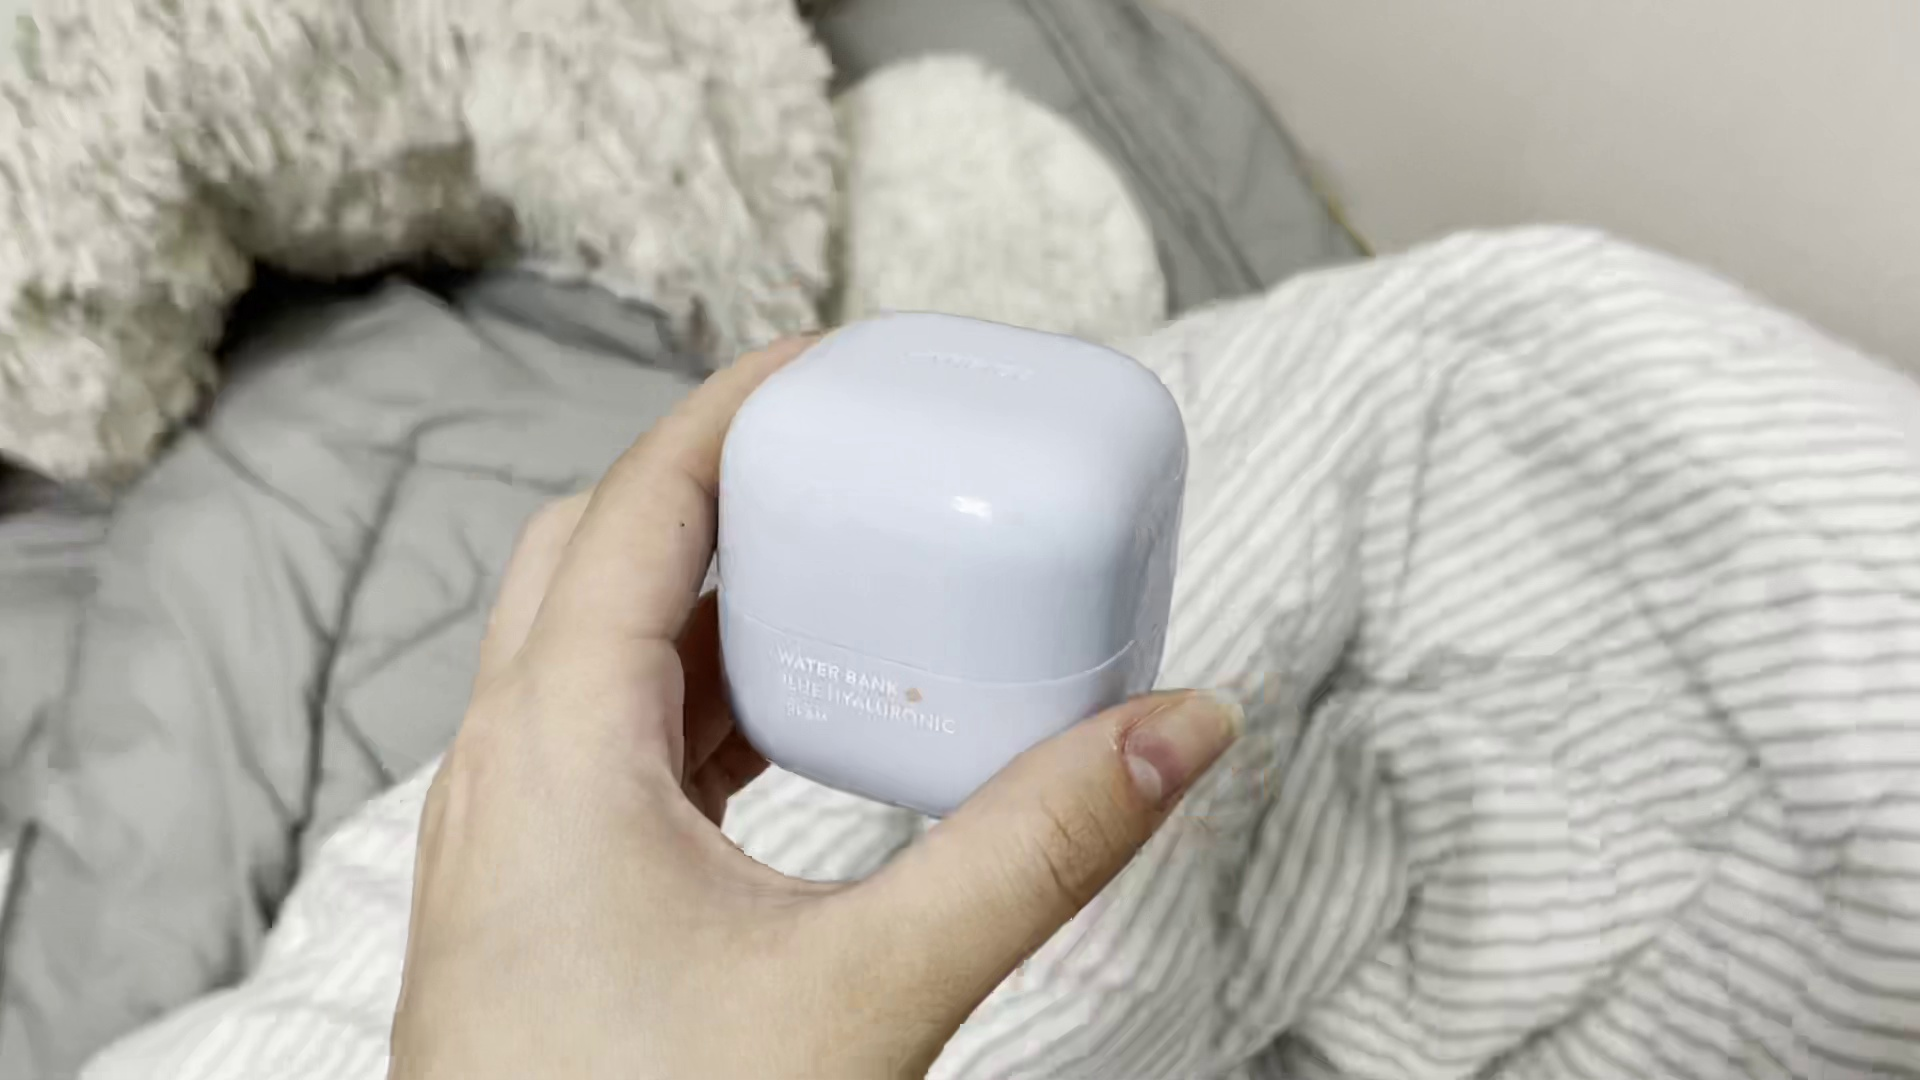cream: (712, 313, 1182, 818)
